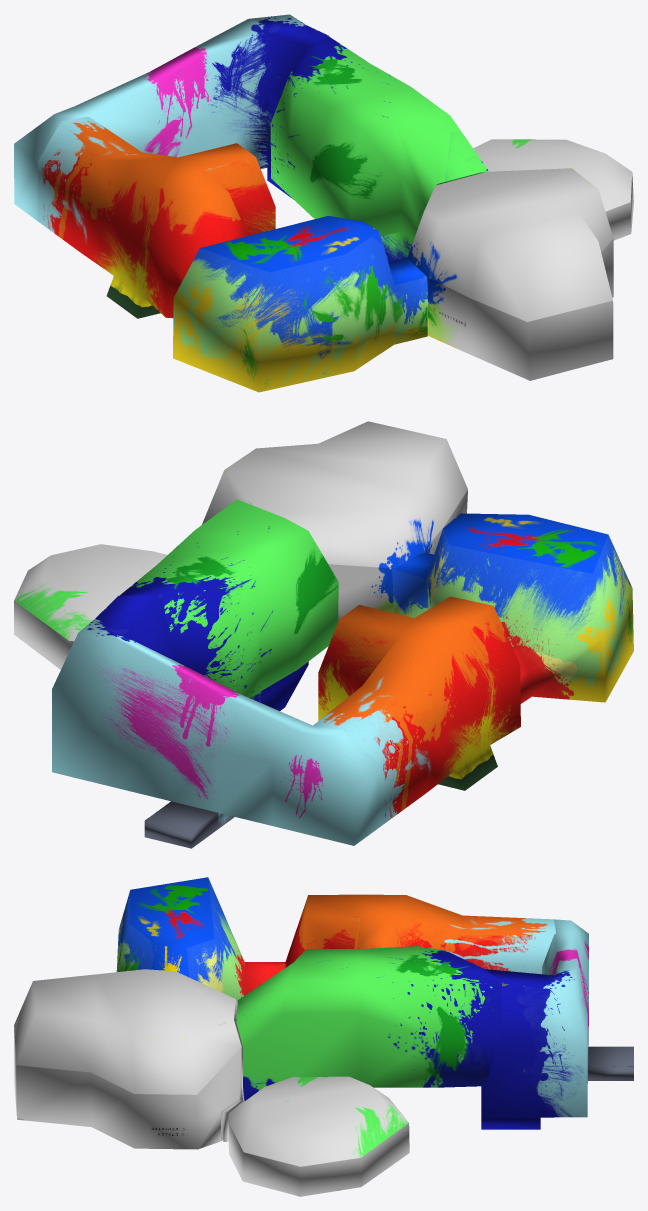
The model's file is Level1.fbx.
The picture shows the model from 3 angles, top to bottom: view 1: azimuth 30°, elevation 25°; view 2: azimuth 150°, elevation 25°; view 3: azimuth 270°, elevation 25°; orthographic projection. The views are drawn at different scales.
Parts seen in each view (by area): view 1: ersterRaum, raum1, raum2, raum4, raum3, letzter_raum; view 2: raum3, raum2, raum1, raum4, ersterRaum, letzter_raum; view 3: ersterRaum, raum4, raum3, letzter_raum, raum2, raum1.
Part boxes in pixels (bbox=[...]): ersterRaum: bbox=[407, 168, 613, 380]; raum1: bbox=[173, 216, 427, 392]; raum2: bbox=[38, 117, 275, 318]; raum4: bbox=[270, 35, 488, 261]; raum3: bbox=[14, 14, 329, 220]; letzter_raum: bbox=[473, 139, 633, 240]; raum3: bbox=[52, 593, 379, 848]; raum2: bbox=[313, 596, 520, 827]; raum1: bbox=[392, 513, 633, 703]; raum4: bbox=[118, 499, 338, 710]; ersterRaum: bbox=[202, 421, 467, 620]; letzter_raum: bbox=[14, 544, 167, 669]; ersterRaum: bbox=[14, 969, 244, 1149]; raum4: bbox=[236, 946, 503, 1100]; raum3: bbox=[481, 919, 633, 1129]; letzter_raum: bbox=[223, 1076, 409, 1196]; raum2: bbox=[285, 894, 555, 974]; raum1: bbox=[116, 877, 285, 1003].
Bounding box in the file's own units: 35.06 × 12.94 × 40.42.
